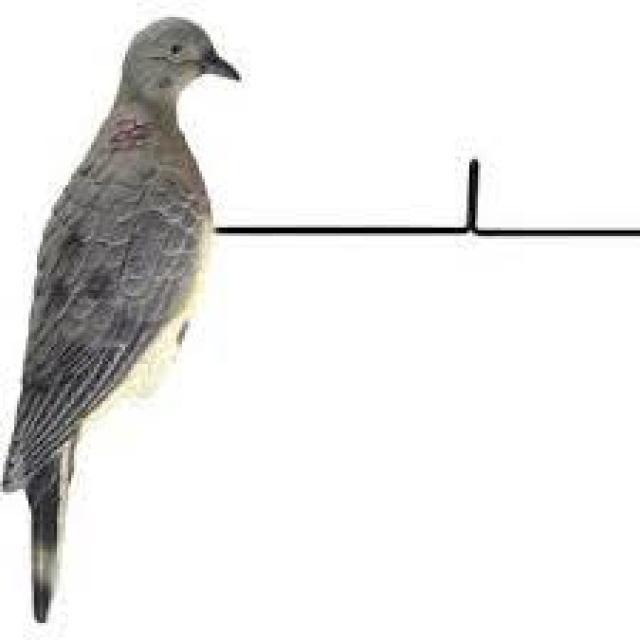pigeon: (0, 0, 253, 583)
